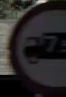Heavy Vehicles: (11, 5, 62, 79)
